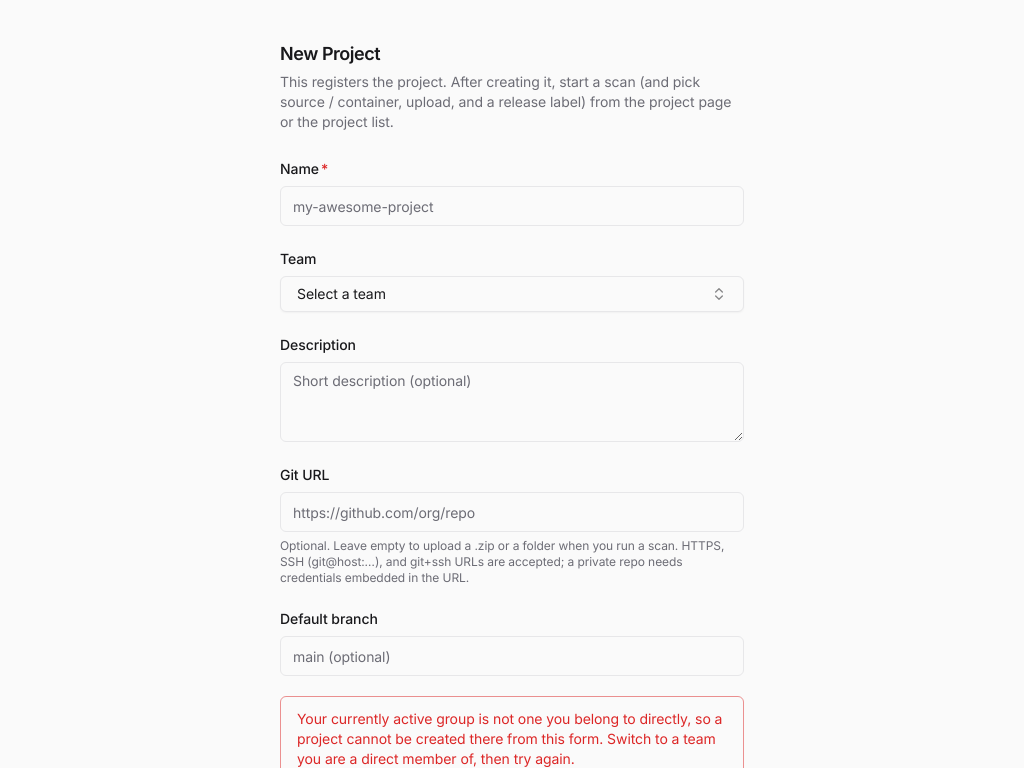
Scenario: ProjectCreatePage › gives a single-team user a way out of the active-team-unresolved block, not a dead end
Click the dropdown with test id "project-team-combobox-trigger" at (341, 294), box x1=280 y1=276 x2=744 y2=312
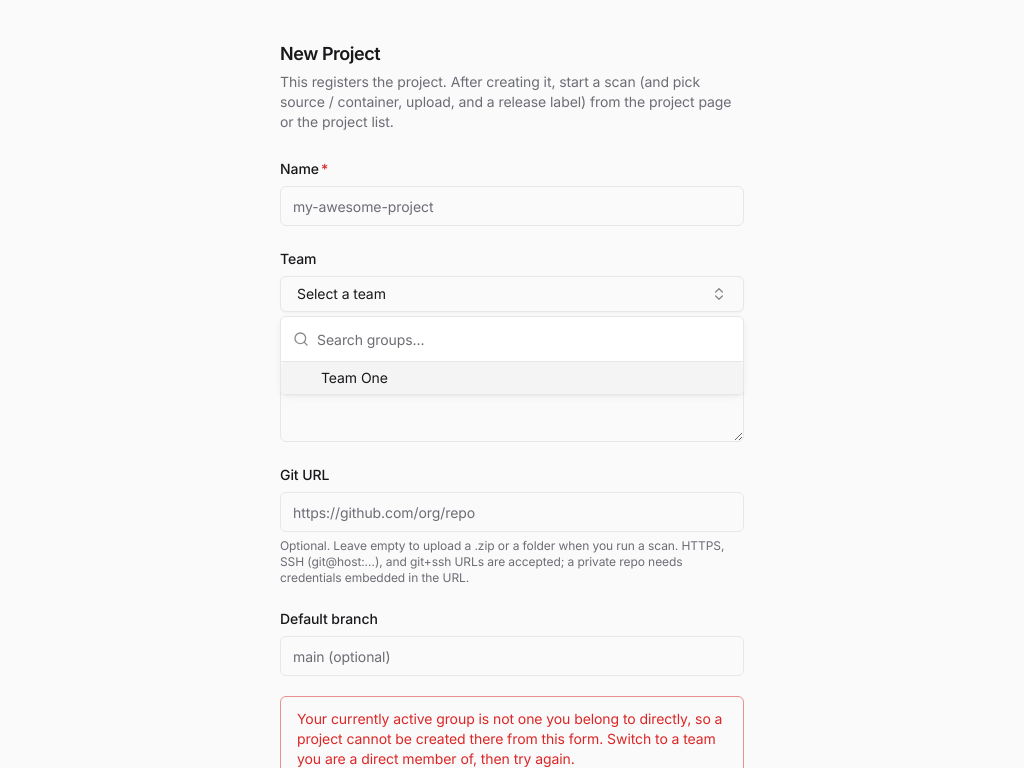
Click the option with test id "project-team-combobox-option" at (354, 378), box x1=281 y1=362 x2=743 y2=394
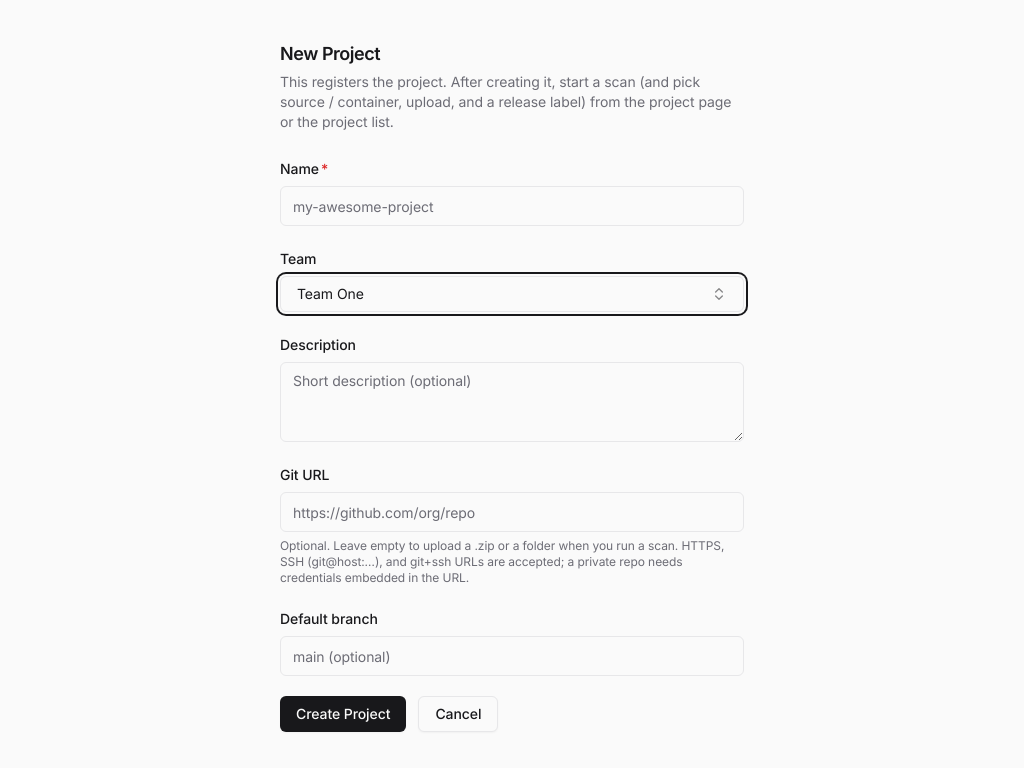
expect the dropdown with test id "project-team-combobox-trigger" reads "Team One": met, box x1=280 y1=276 x2=744 y2=312
expect the button with test id "project-create-submit" is enabled: met, box x1=280 y1=696 x2=406 y2=732
